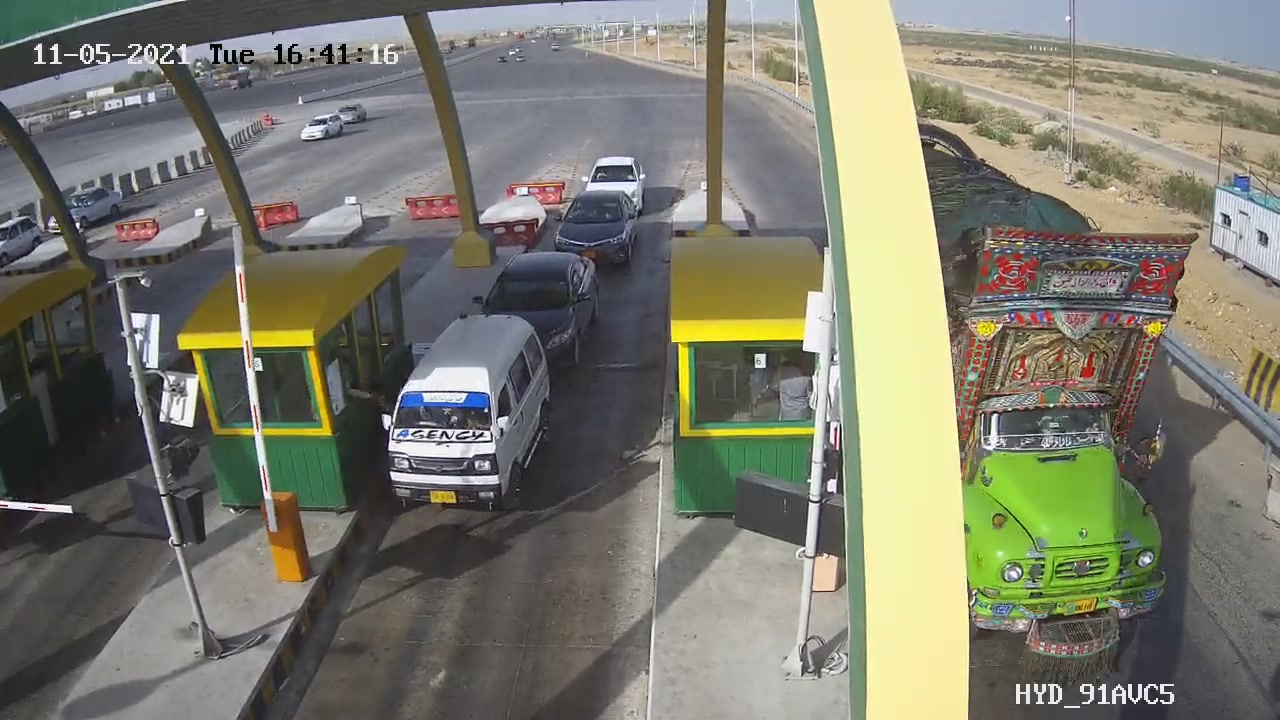F1: (363, 302, 578, 529), (544, 180, 650, 273)
